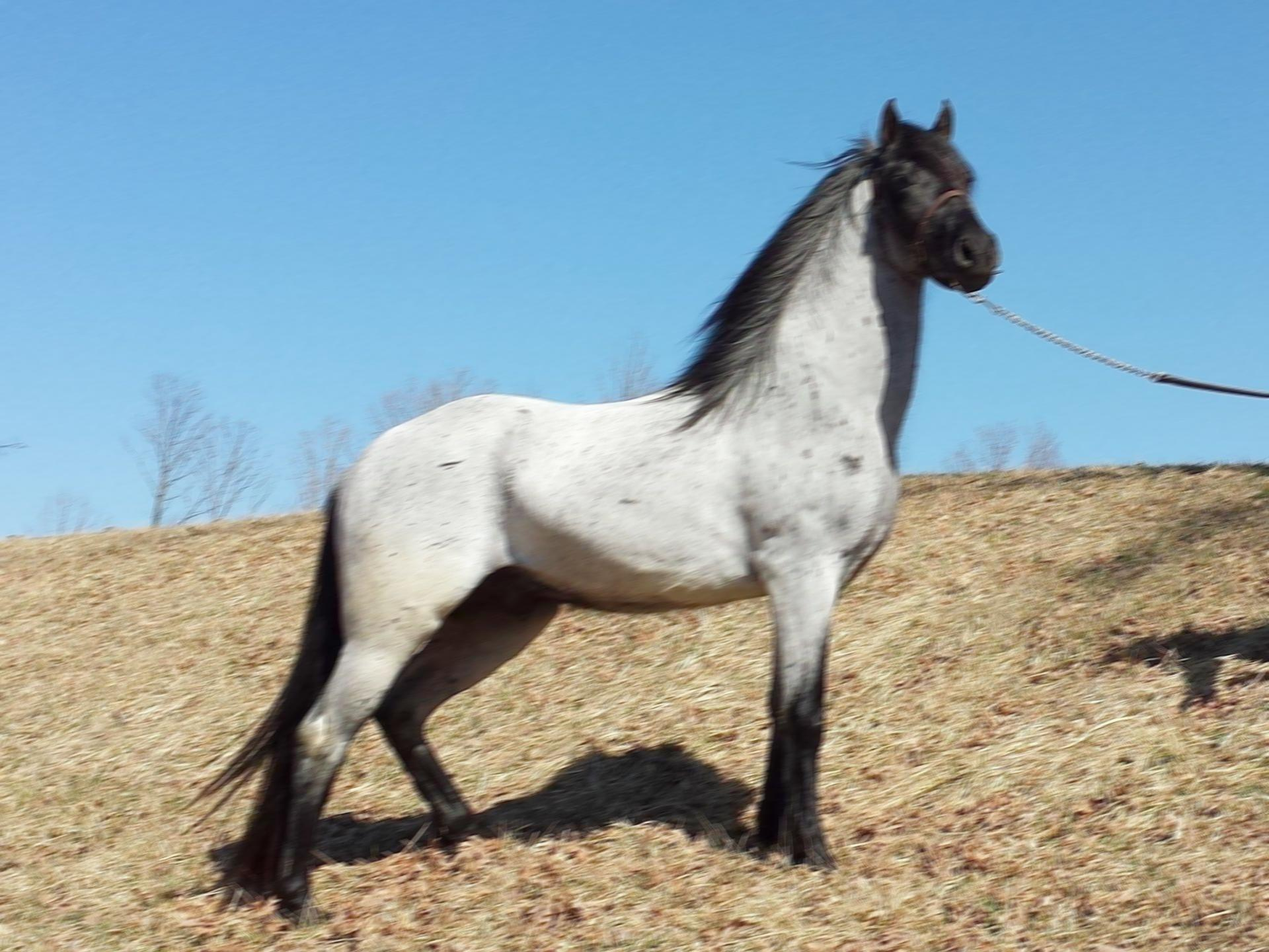horse: (177, 95, 1002, 923)
